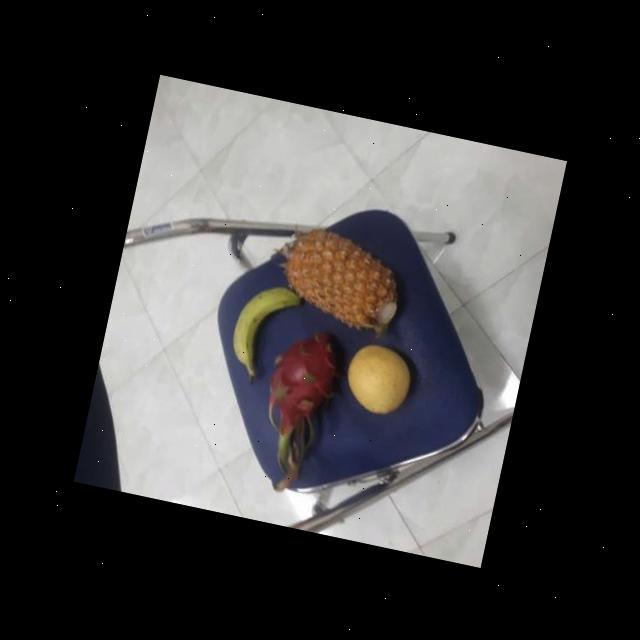banana: (226, 270, 305, 372)
pear: (340, 338, 418, 420)
pineapple: (276, 218, 411, 340)
pitaya: (262, 319, 355, 438)
